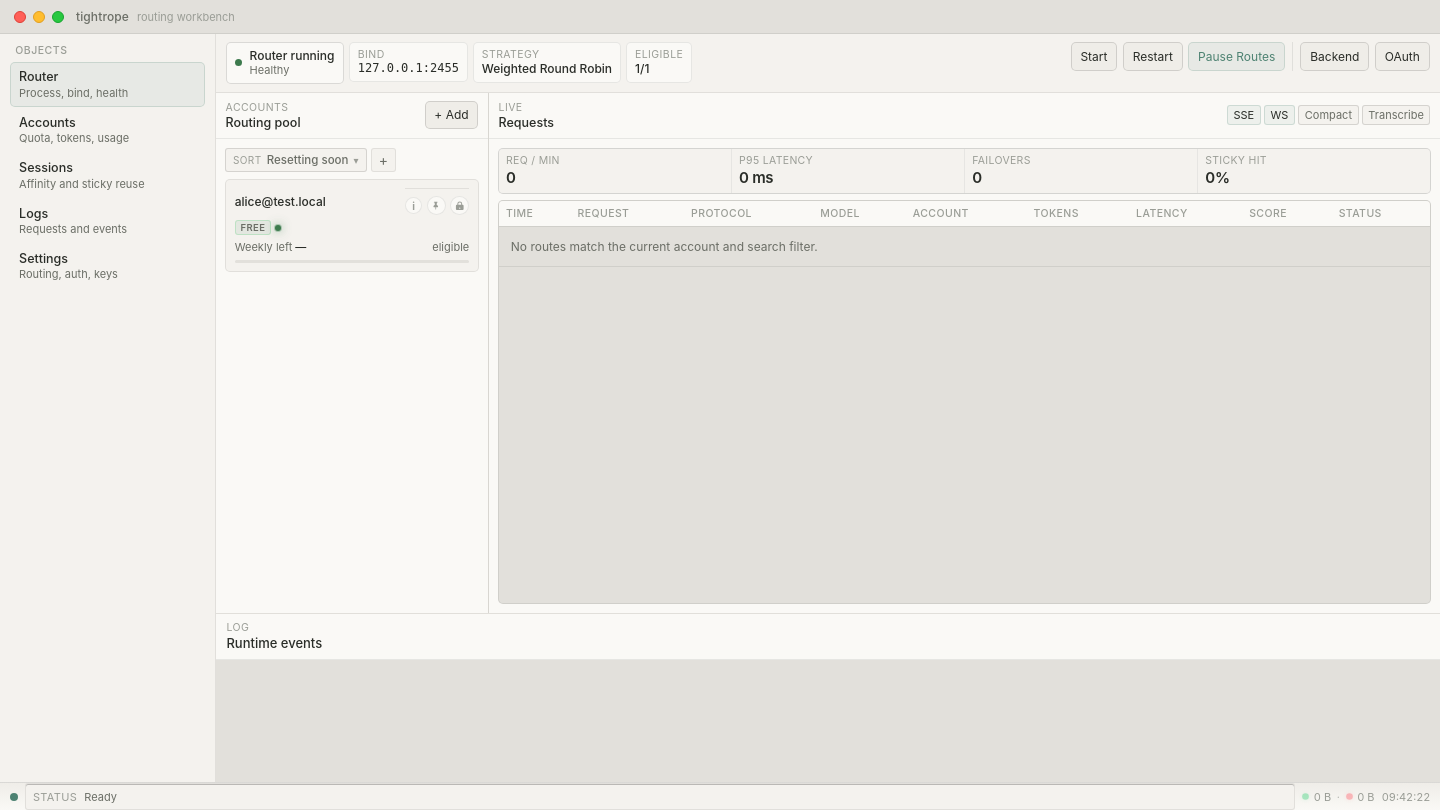
Test: App › account detail token status reflects local encrypted storage and auto-refresh
This screenshot has width=1440, height=810.
Click the button "Accounts Quota, tokens, usage" at (108, 130), box [10,108,205,152]
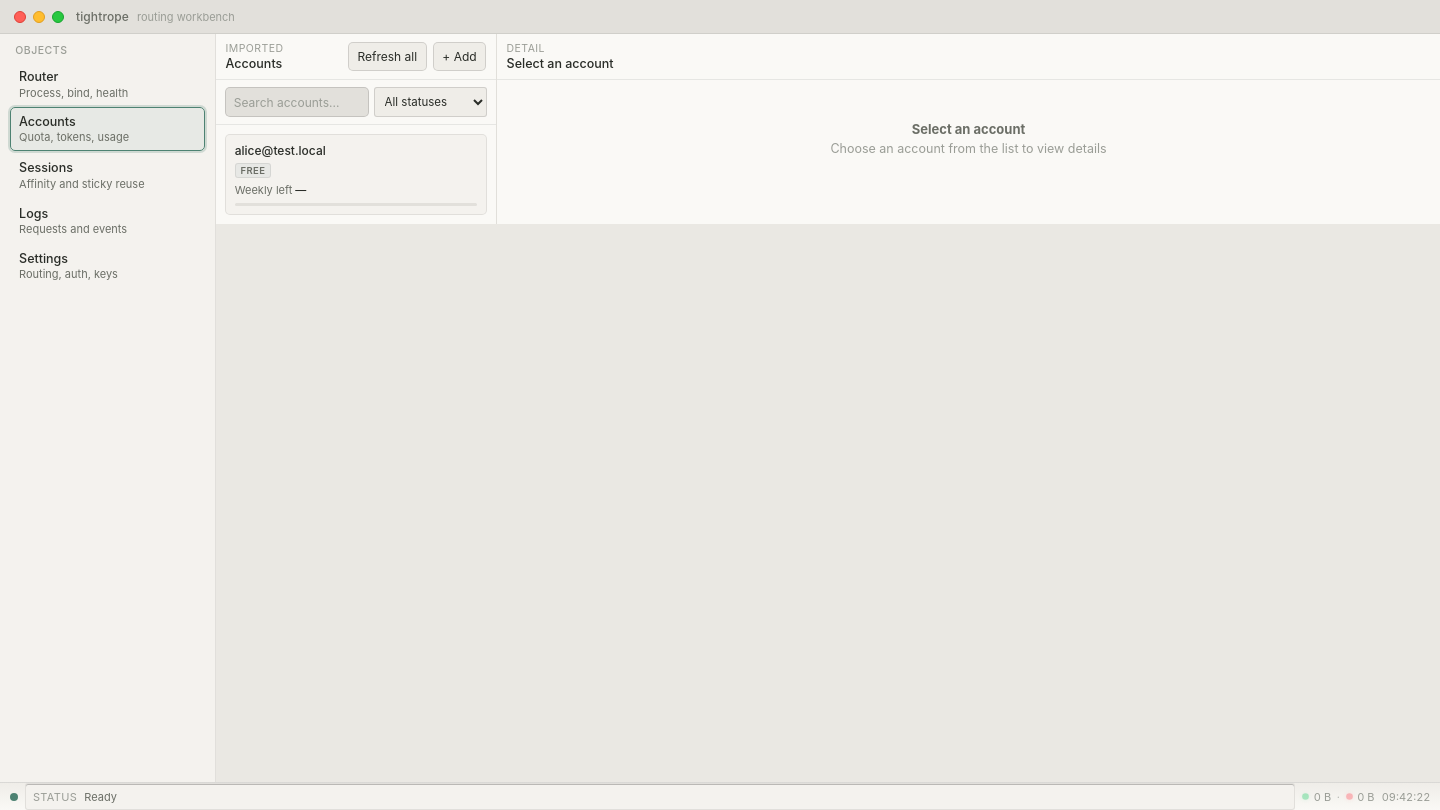
Click the button "alice@test.local free Weekly left —" at (280, 150), box [225,134,487,215]
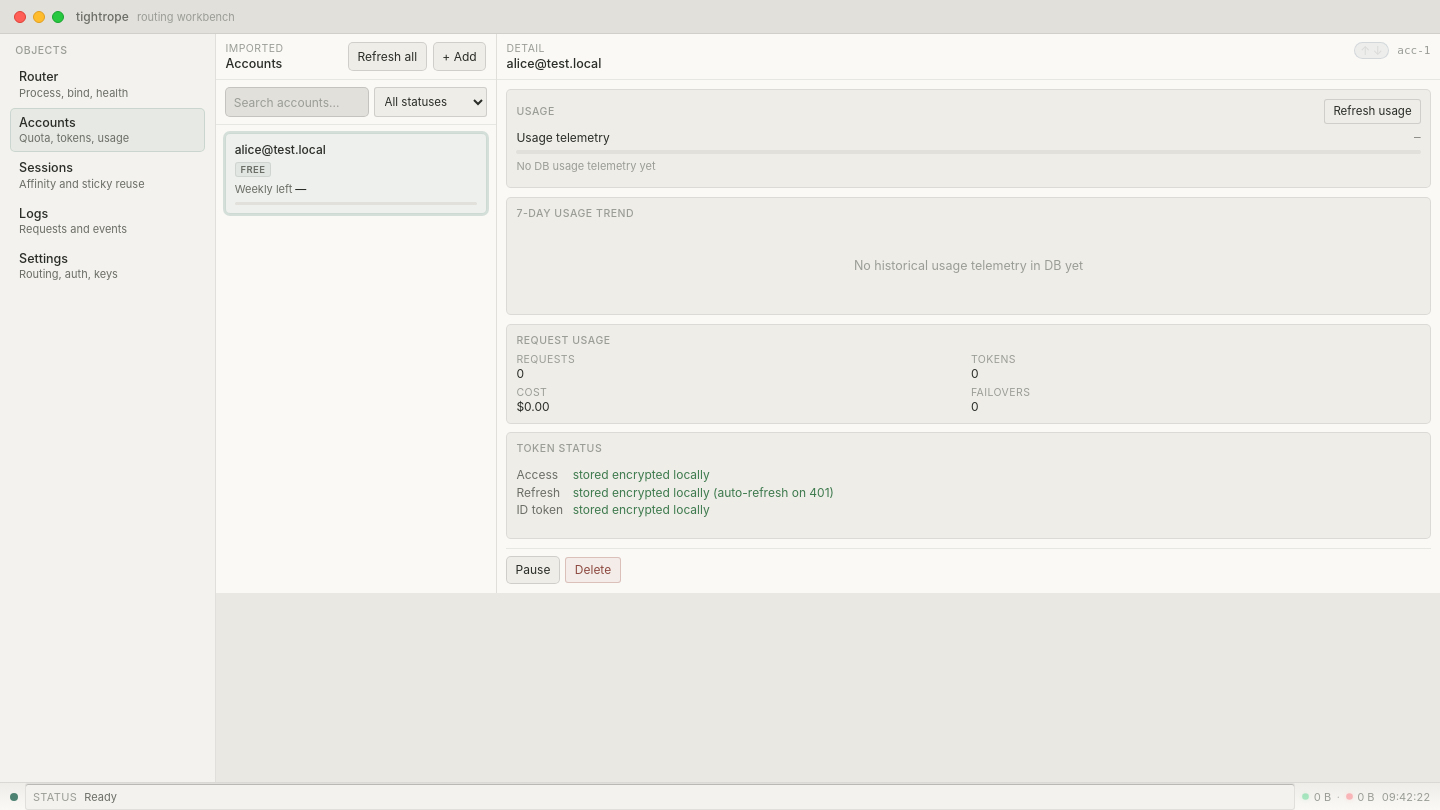
Result: the 1st text "stored encrypted locally" is shown at [573,467,710,482]
Result: the text "stored encrypted locally (auto-refresh on 401)" is shown at [573,484,834,500]
Result: the element "Request usage" is shown at [506,324,1431,424]
